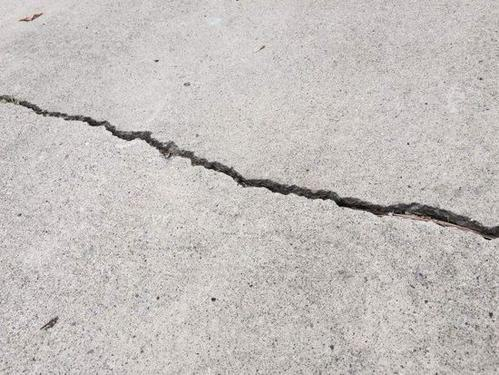Crack: (1, 93, 499, 241)
